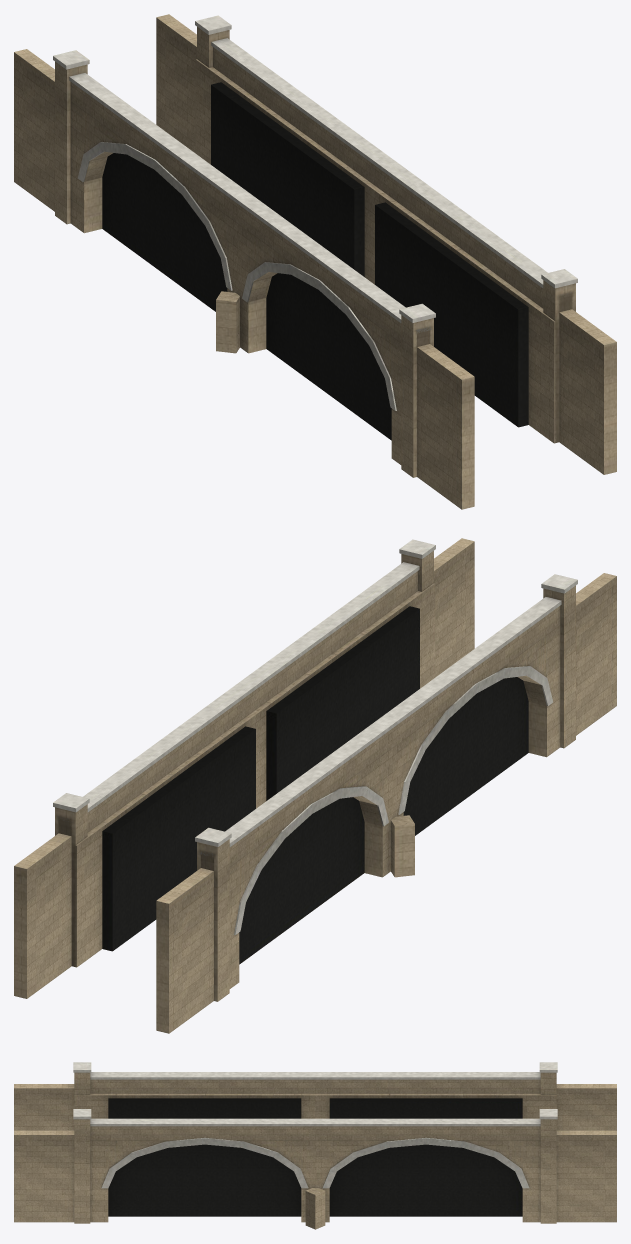
Rendered from rail_bridge.glb.
3 views of the same model, one above another, from view 1: azimuth 30°, elevation 25°; view 2: azimuth 150°, elevation 25°; view 3: azimuth 270°, elevation 25° (orthographic). The views are drawn at different scales.
Visible parts, largest first — view 1: rail_bridge; view 2: rail_bridge; view 3: rail_bridge.
Boxes of the visible parts, x1,y1,x2,y2 form: rail_bridge: [14, 14, 616, 509]; rail_bridge: [14, 538, 616, 1033]; rail_bridge: [14, 1062, 616, 1229].
Bounding box in the file's own units: 7.69 × 5.9 × 30.
Materials: 1 (1 with a texture image).
